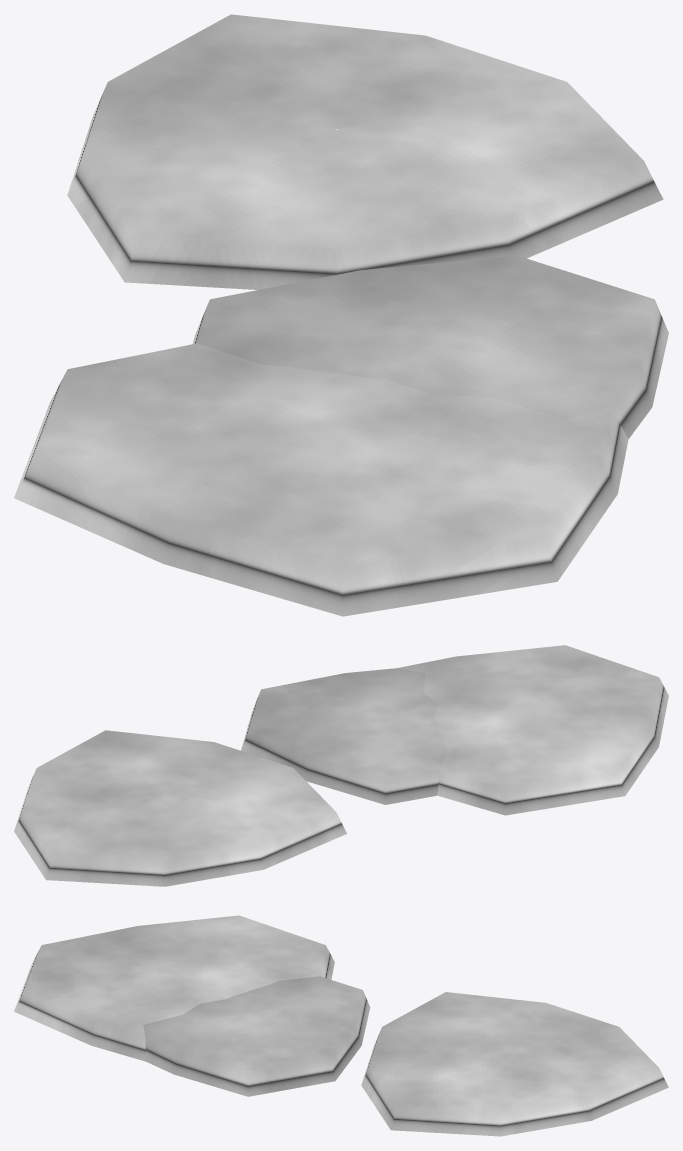
The model's file is path-0.glb.
The picture shows the model from 3 angles, top to bottom: view 1: azimuth 30°, elevation 25°; view 2: azimuth 150°, elevation 25°; view 3: azimuth 270°, elevation 25°; orthographic projection. The views are drawn at different scales.
Parts seen in each view (by area): view 1: path-0; view 2: path-0; view 3: path-0.
Part boxes in pixels (x1,y1,x2,y2): path-0: (14, 14, 668, 616); path-0: (14, 645, 668, 886); path-0: (14, 915, 668, 1136).
Bounding box in the file's own units: 1.03 × 0.055 × 1.39.
Materials: 1 (1 with a texture image).
